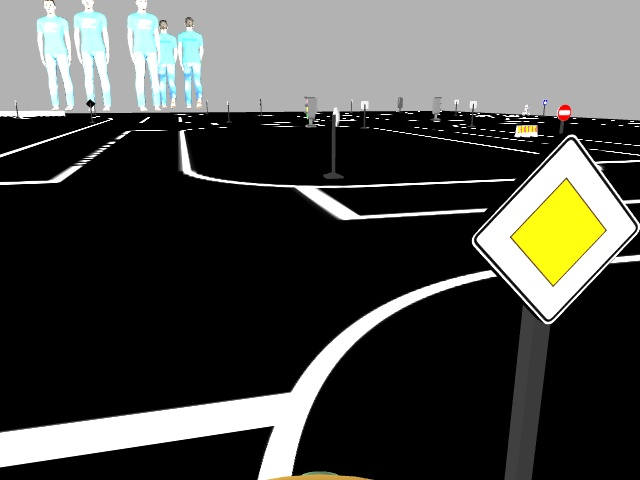ClosedRoadStand: (512, 123, 539, 139)
NoEntry: (556, 103, 572, 121)
Priority: (465, 130, 634, 325)
